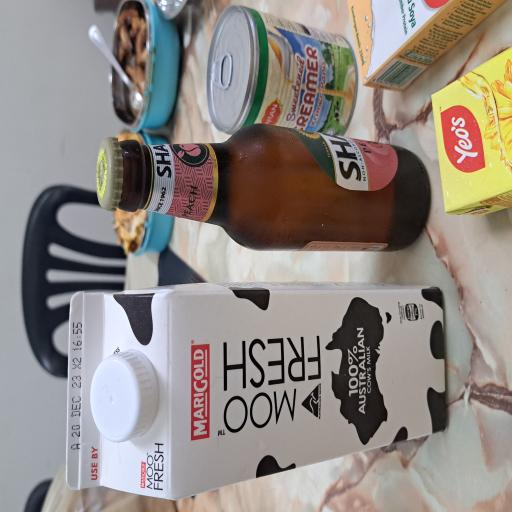can: (284, 276, 380, 474)
drink carton: (10, 87, 171, 512)
glass bottle: (195, 129, 289, 512)
plastic bottle cap: (52, 119, 120, 210)
pop tab: (320, 278, 344, 313)
